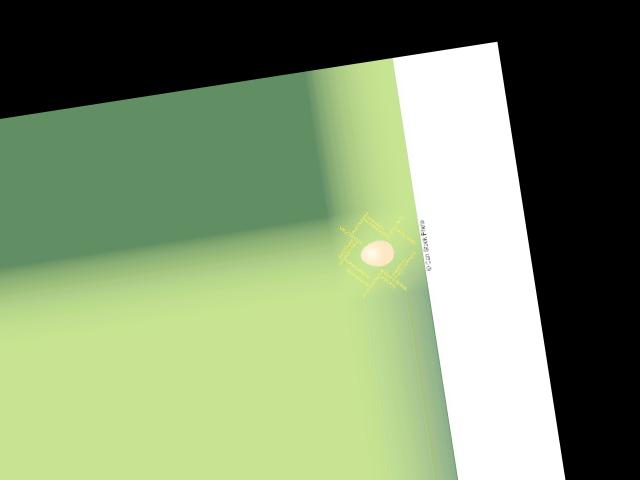egg: (358, 238, 395, 268)
